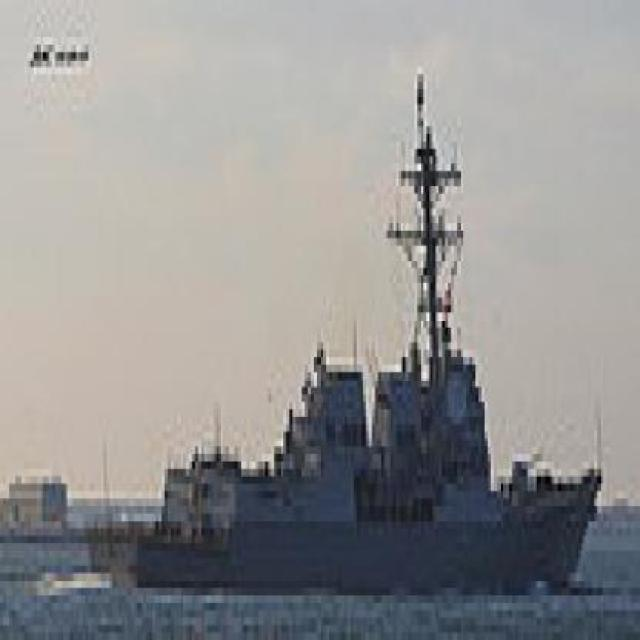warship2: (102, 53, 611, 612)
